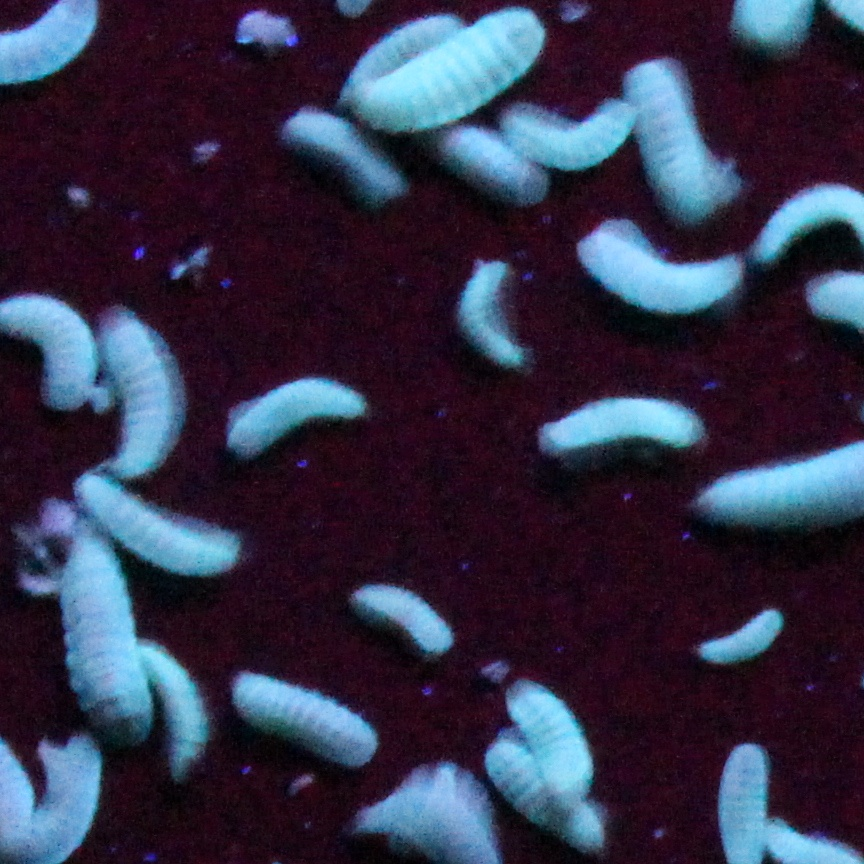larve: (55, 527, 170, 733), (362, 0, 546, 128), (86, 312, 194, 488), (81, 478, 256, 581), (230, 664, 375, 764), (582, 240, 738, 320), (642, 68, 726, 216), (238, 388, 390, 460), (534, 400, 702, 464), (24, 730, 101, 864), (504, 681, 584, 807), (350, 570, 461, 658), (454, 256, 534, 376), (144, 635, 203, 784), (290, 120, 406, 188), (690, 610, 787, 658)
